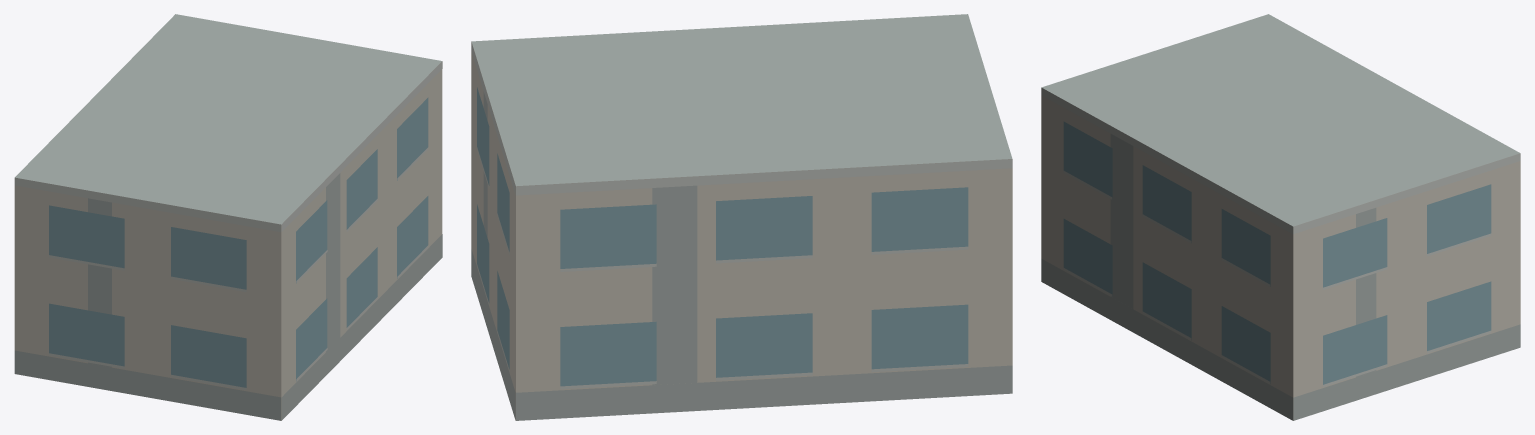
File: residential-e45d0e80-96f0-4902-9202-91632fdb9ee6.glb
3 views of the same model, side by side, from view 1: azimuth 30°, elevation 25°; view 2: azimuth 150°, elevation 25°; view 3: azimuth 270°, elevation 25° (orthographic). The views are drawn at different scales.
Parts seen in each view (by area): view 1: residential-e45d0e80-96f0-4902-9202-91632fdb9ee6.tmp; view 2: residential-e45d0e80-96f0-4902-9202-91632fdb9ee6.tmp; view 3: residential-e45d0e80-96f0-4902-9202-91632fdb9ee6.tmp.
Boxes of the visible parts, left/top/right/bottom form: residential-e45d0e80-96f0-4902-9202-91632fdb9ee6.tmp: left=14, top=14, right=442, bottom=420; residential-e45d0e80-96f0-4902-9202-91632fdb9ee6.tmp: left=471, top=14, right=1012, bottom=420; residential-e45d0e80-96f0-4902-9202-91632fdb9ee6.tmp: left=1041, top=14, right=1520, bottom=420.
Bounding box in the file's own units: 14.32 × 6.1 × 13.65.
